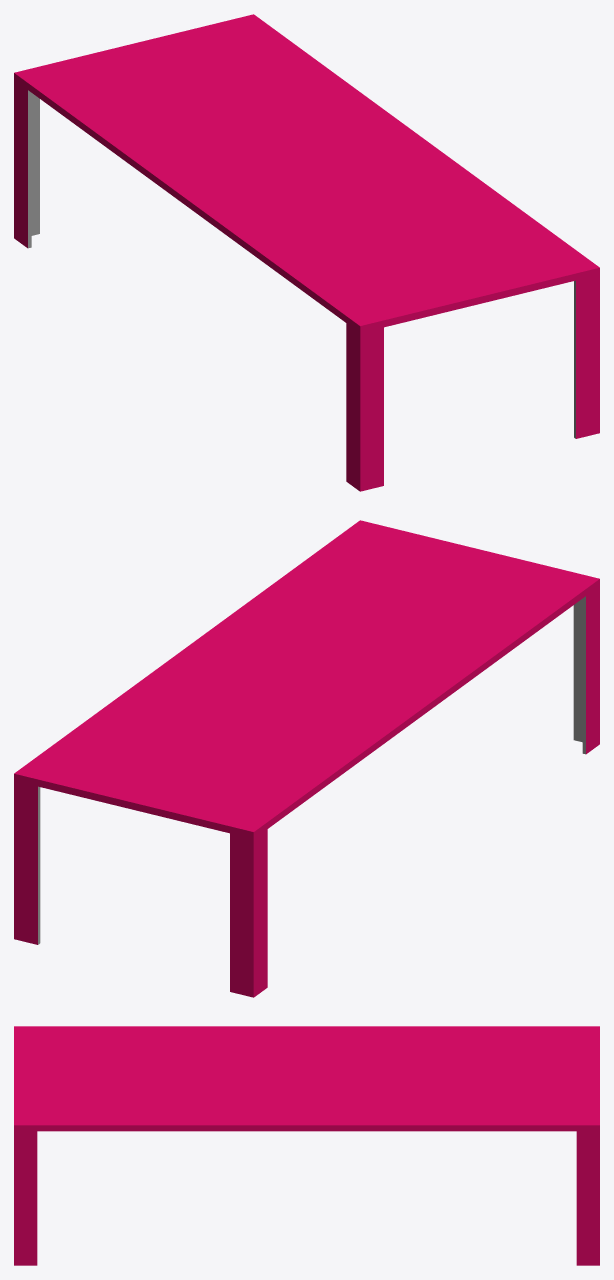
File: PaperLowTable.fbx
3 renders of one model, top to bottom at view 1: azimuth 30°, elevation 25°; view 2: azimuth 150°, elevation 25°; view 3: azimuth 270°, elevation 25°, orthographic. The views are drawn at different scales.
Visible parts, largest first — view 1: pCube183; view 2: pCube183; view 3: pCube183.
Part boxes in pixels (bbox=[...]): pCube183: bbox=[14, 14, 599, 491]; pCube183: bbox=[14, 520, 599, 997]; pCube183: bbox=[14, 1026, 599, 1265].
Bounding box in the file's own units: 10 × 6.6 × 25.
